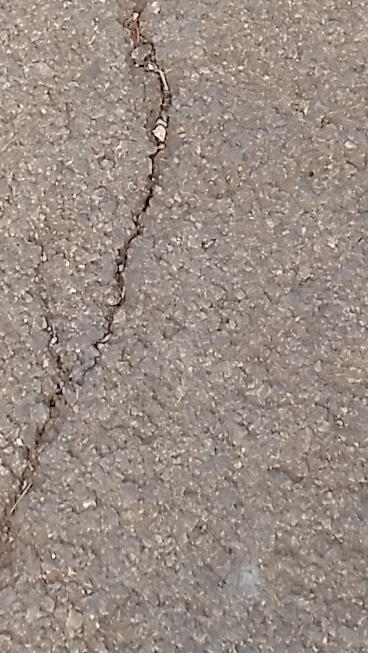A: (5, 2, 182, 532)
